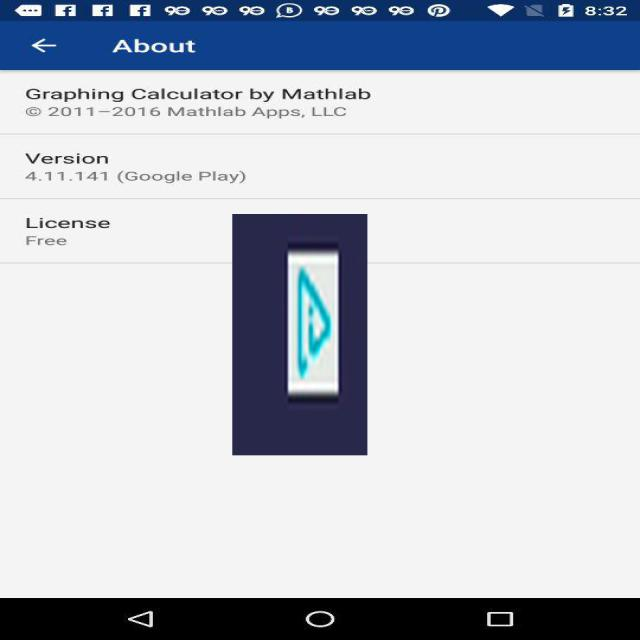sneaking: (232, 214, 368, 455)
